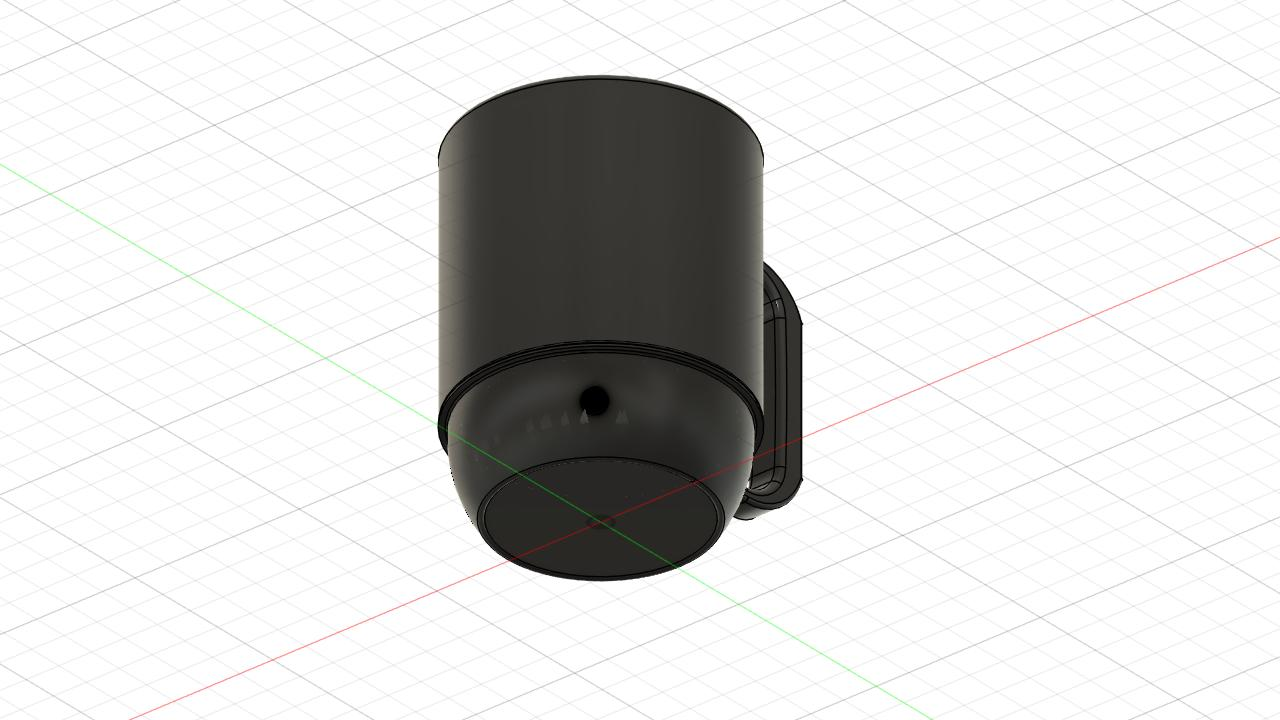mug-real100-3d100: (438, 76, 802, 580)
